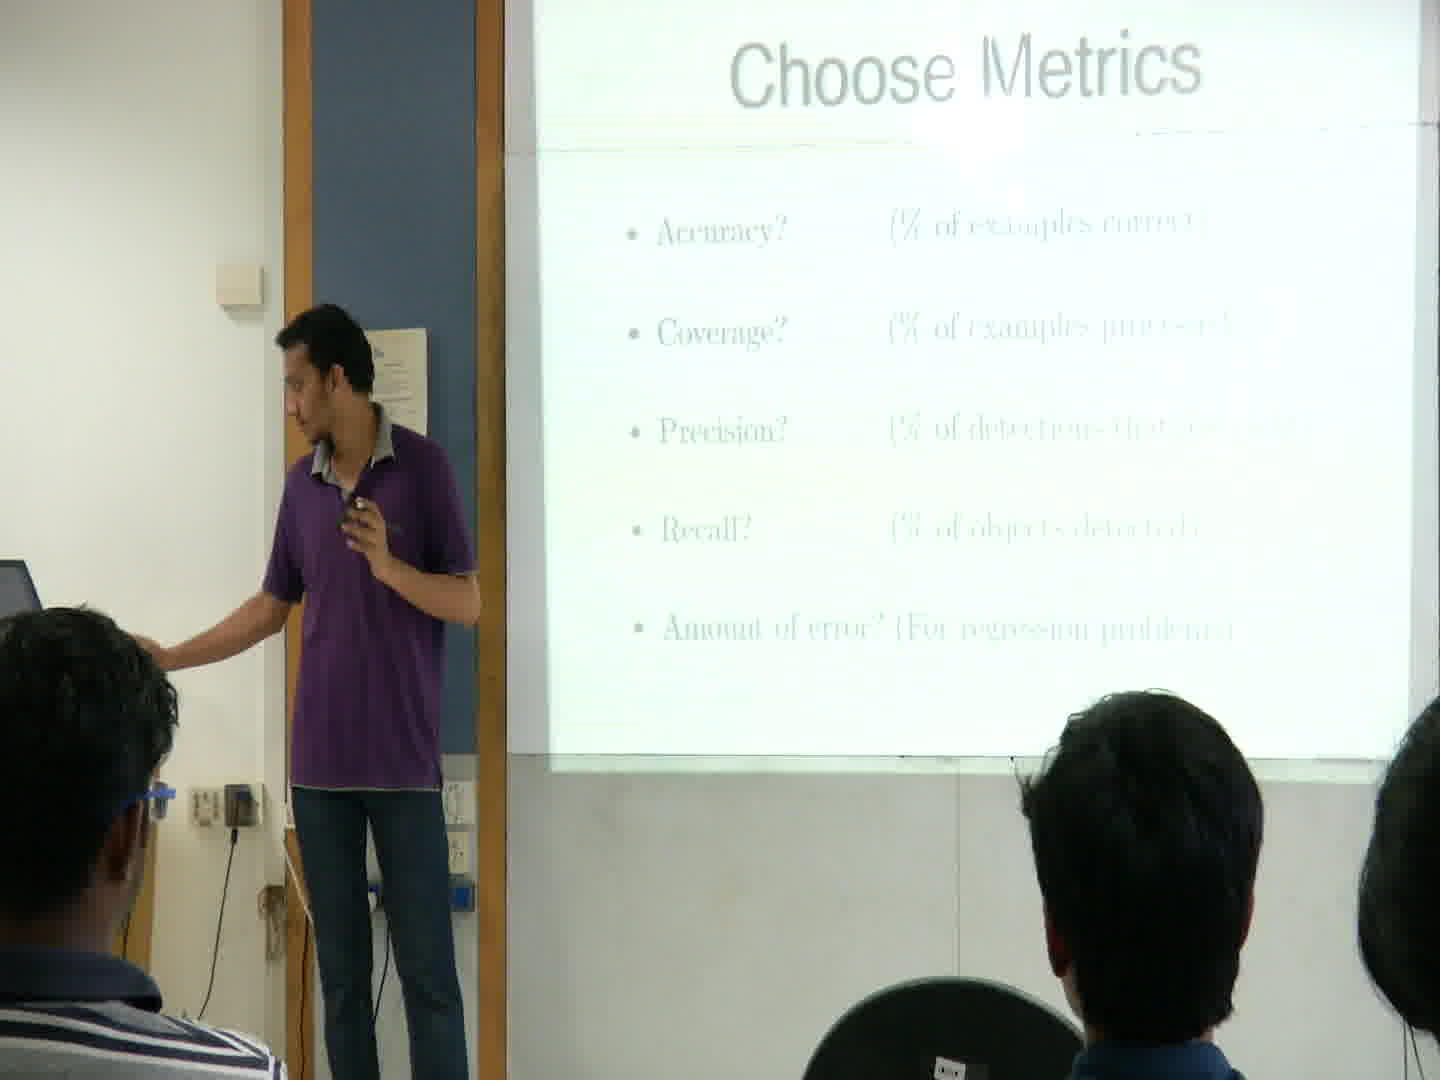slide: (534, 1, 1413, 775)
